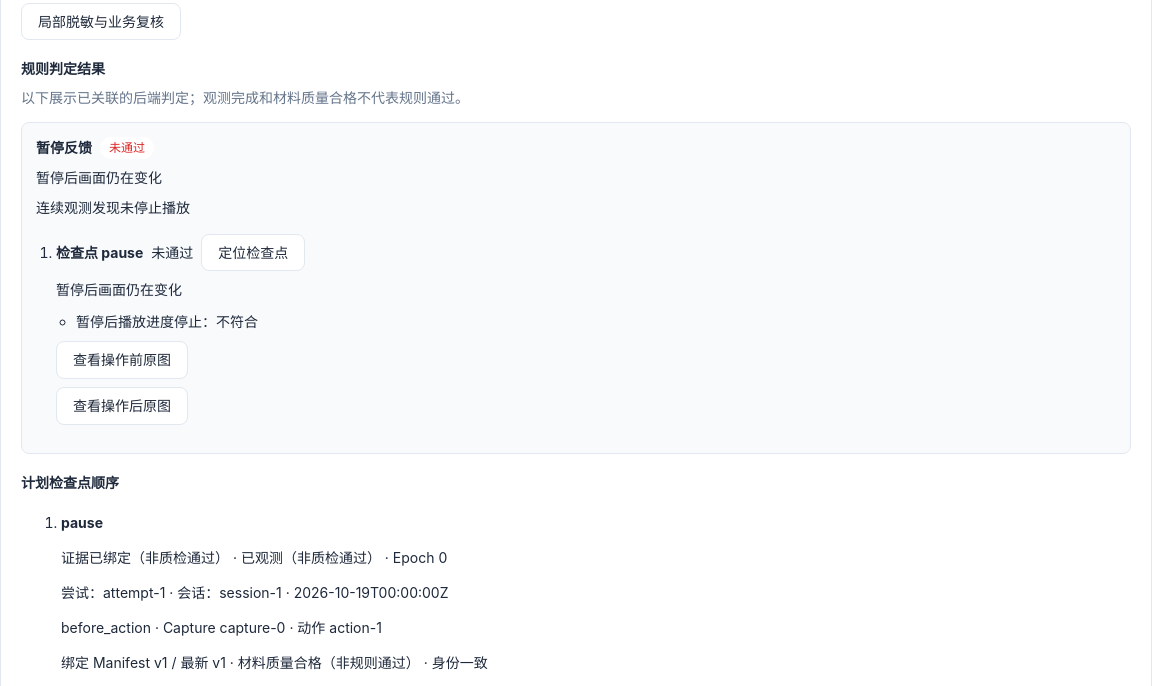
Scenario: 证据权限拒绝时显示原错误，不以其他截图回退
This screenshot has width=1152, height=686.
(page scrolled)
Click the 1st button with test id "shortflow-rule-evidence". click: (122, 360)
box: [56,341,188,379]
(page scrolled)
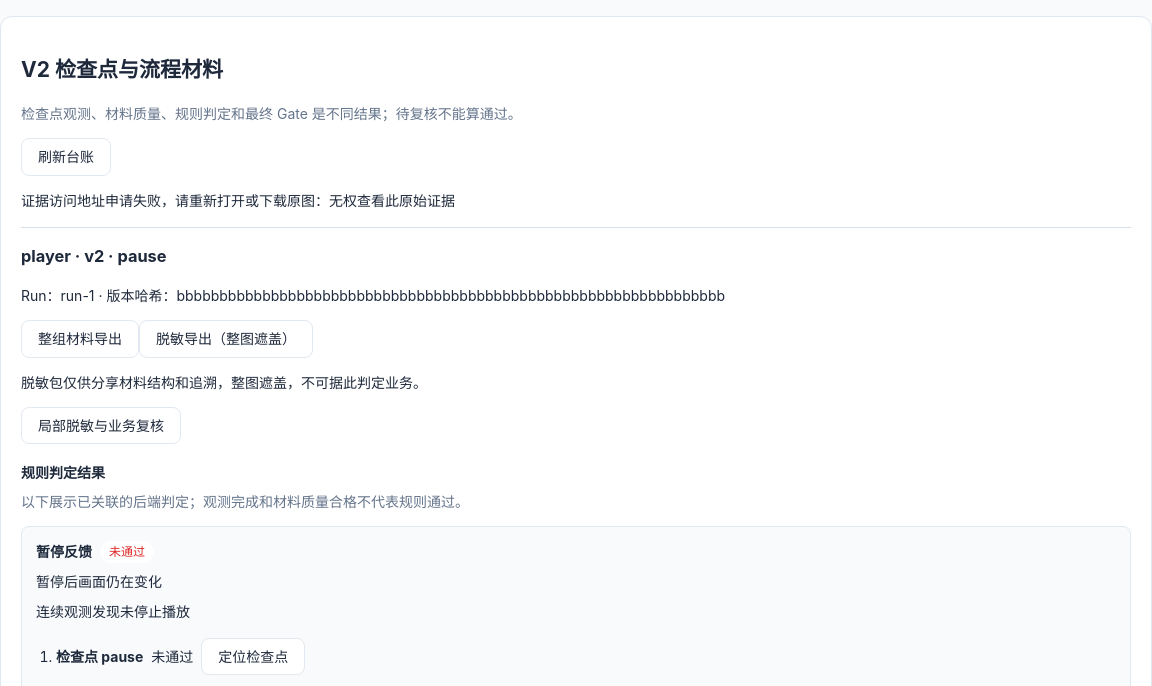
Result: the message "证据访问地址申请失败，请重新打开或下载原图：无权查看此原始证据" is shown at [21,192,455,209]
